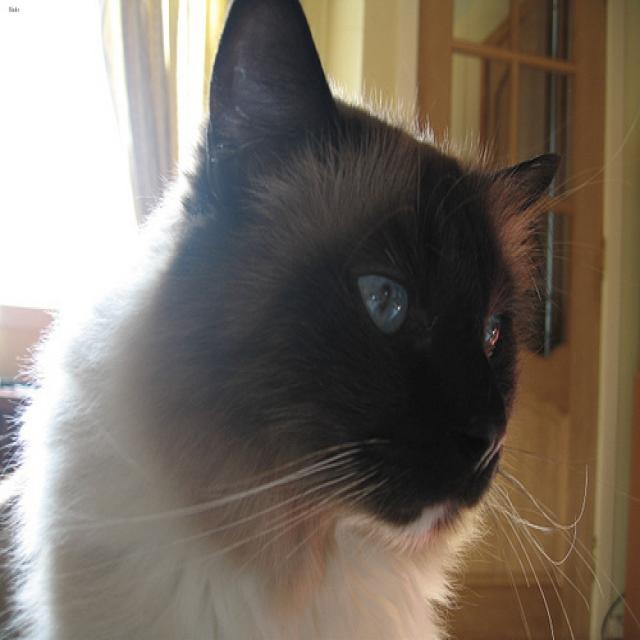Birman: (185, 0, 572, 541)
